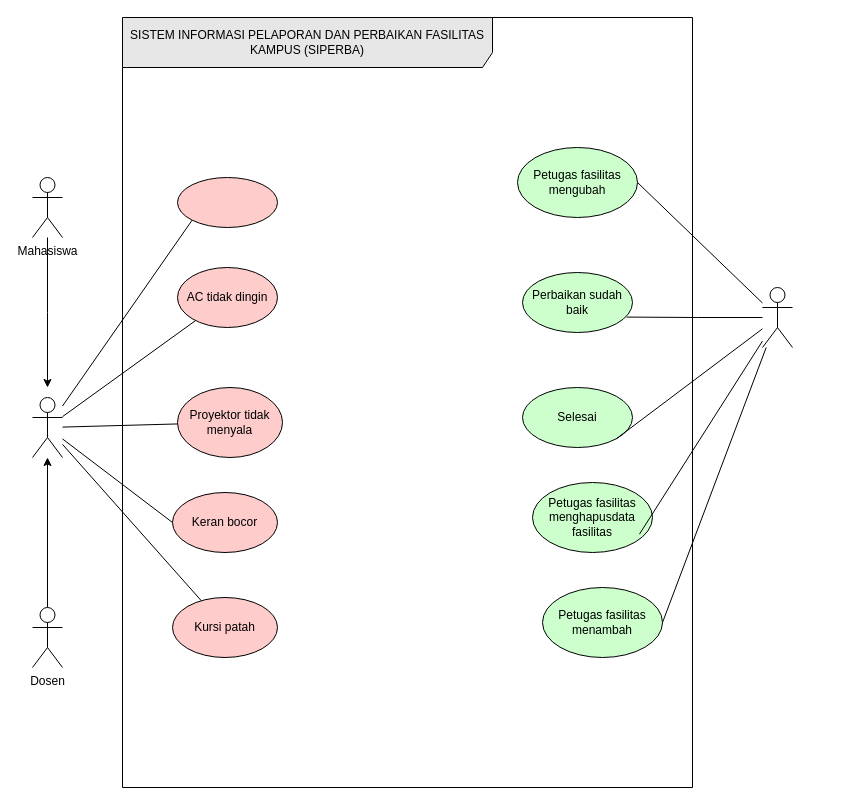
Some shapes in this 859 by 805 pixel diagram are drawn without their labels. Here are the shapes that lost their labels. From the top down, the centre of each, then its label:
At point (227, 202): "Lampu padam".
At point (777, 317): "Admin Sisten Pelaporan".
At point (47, 427): "Pelapor".
